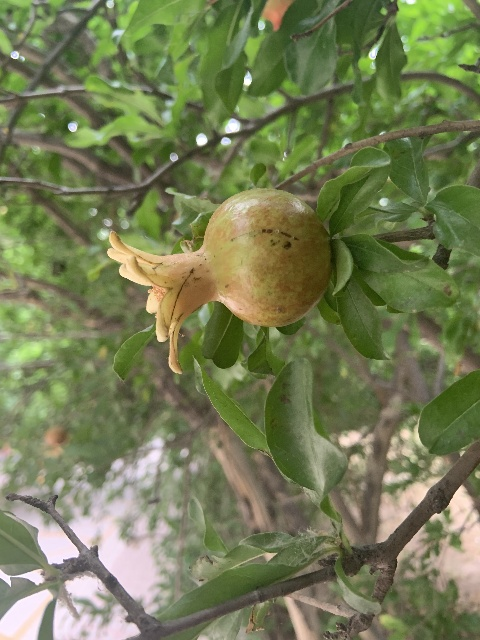early-fruit: (107, 188, 333, 374)
